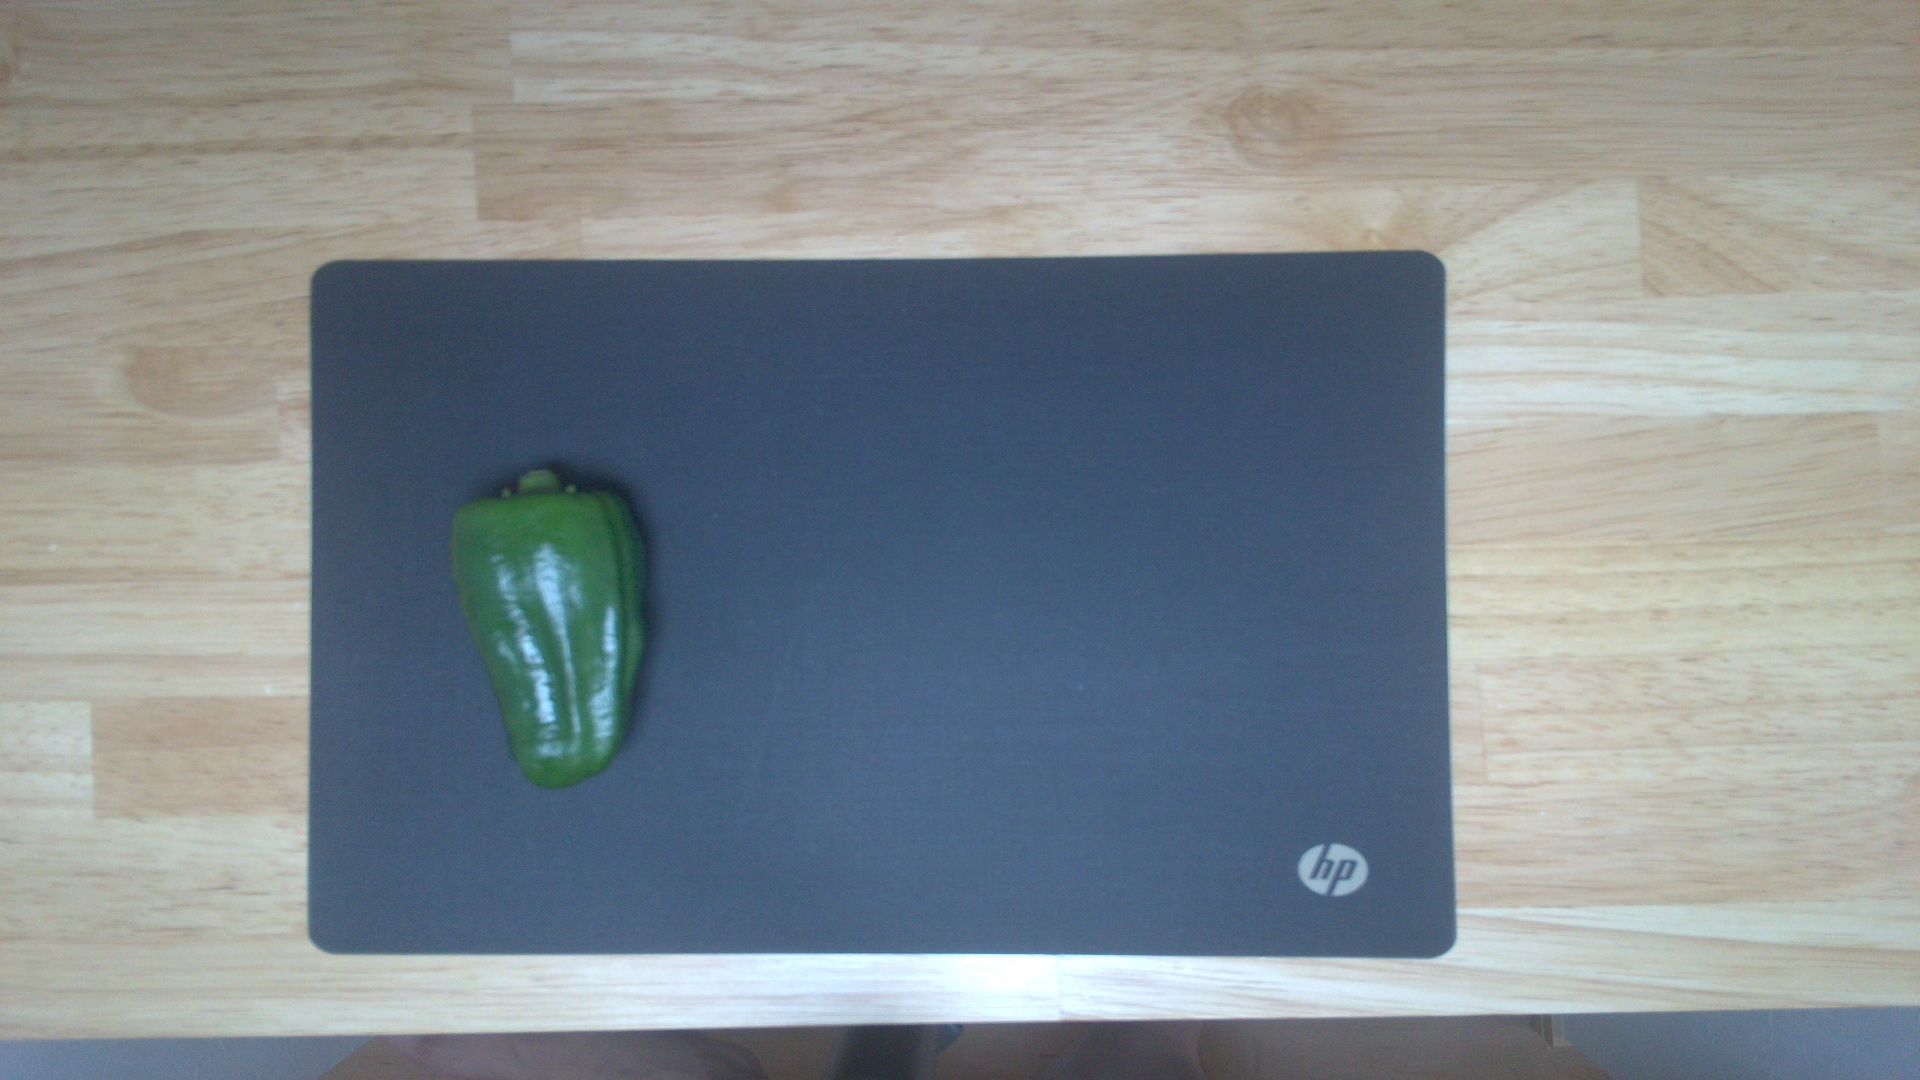Piman: (444, 459, 662, 791)
